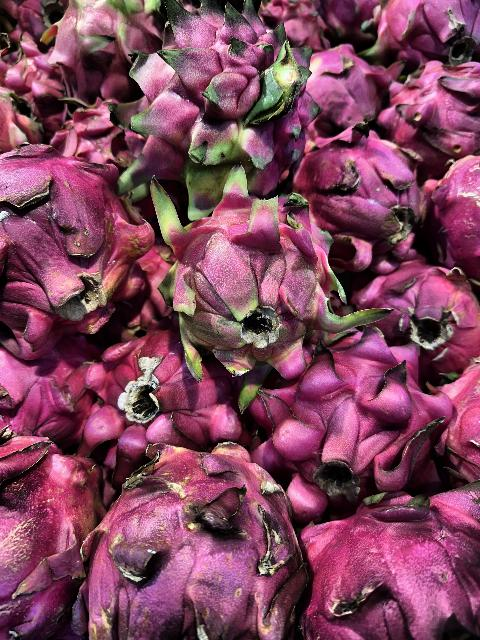buah-naga-belum-matang: (136, 180, 390, 378), (74, 438, 312, 640), (117, 5, 314, 195), (0, 426, 106, 640)
buah-naga-matang: (0, 143, 152, 357), (252, 330, 440, 500), (294, 500, 480, 640), (77, 334, 239, 462), (298, 122, 428, 262), (346, 252, 480, 376), (40, 7, 162, 103), (386, 65, 480, 165), (311, 41, 389, 141)
